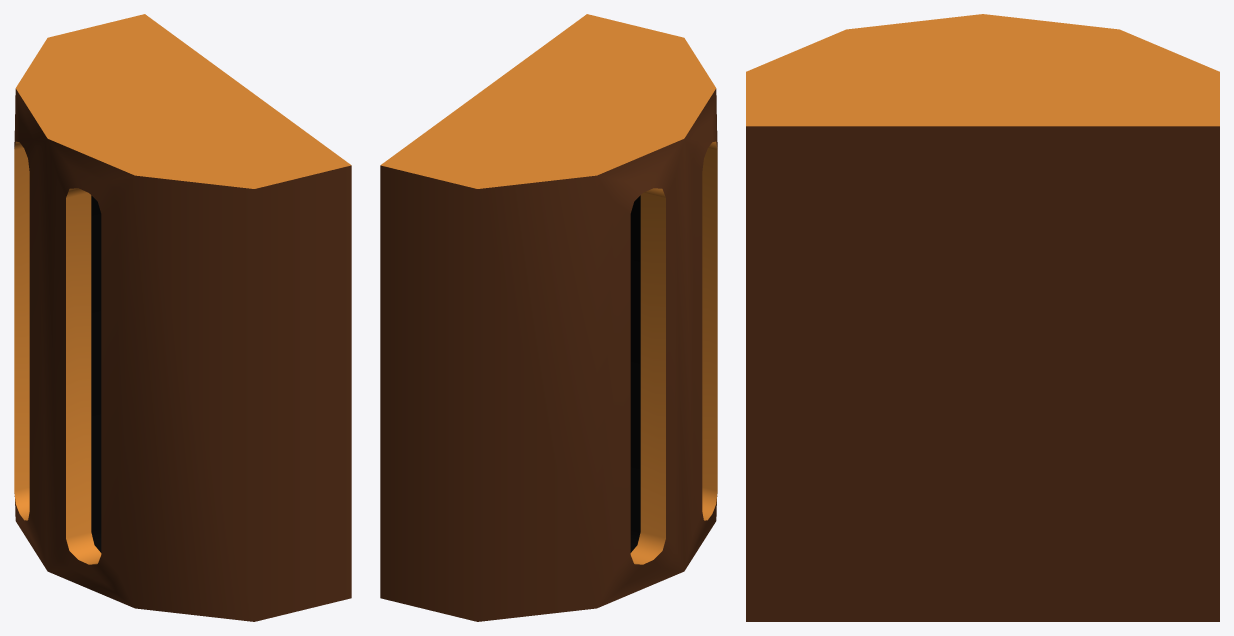
The model's file is Vent_025m.fbx.
3 views of the same model, side by side, from view 1: azimuth 30°, elevation 25°; view 2: azimuth 150°, elevation 25°; view 3: azimuth 270°, elevation 25° (orthographic). The views are drawn at different scales.
Parts seen in each view (by area): view 1: Vent_025m; view 2: Vent_025m; view 3: Vent_025m.
Boxes of the visible parts, x1,y1,x2,y2 form: Vent_025m: (14, 14, 351, 621); Vent_025m: (380, 14, 717, 621); Vent_025m: (746, 14, 1219, 621).
Size of the model in its own units: 24.26 by 50 by 43.3.
